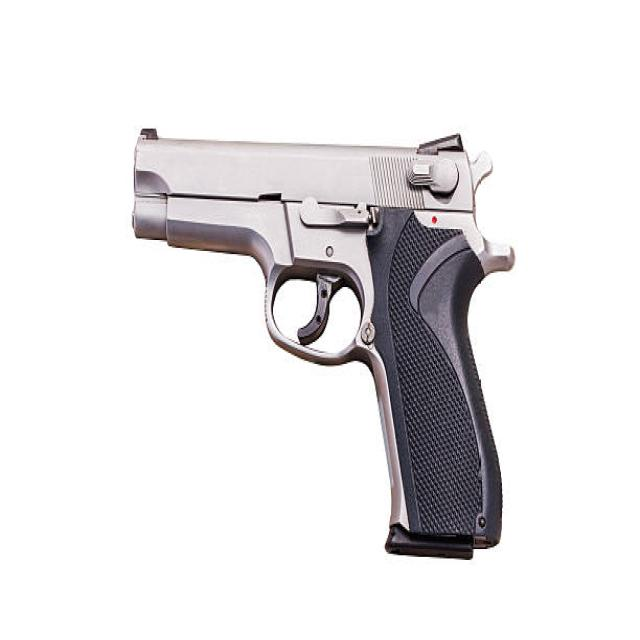pistol: (127, 117, 522, 578)
